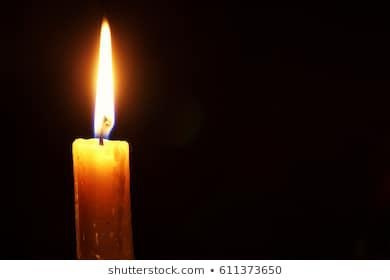fire: (90, 16, 118, 137)
